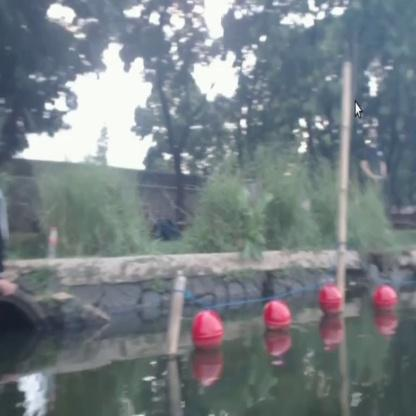red_buoy: (193, 308, 223, 349), (262, 300, 292, 338), (318, 294, 342, 320), (377, 287, 395, 316)
